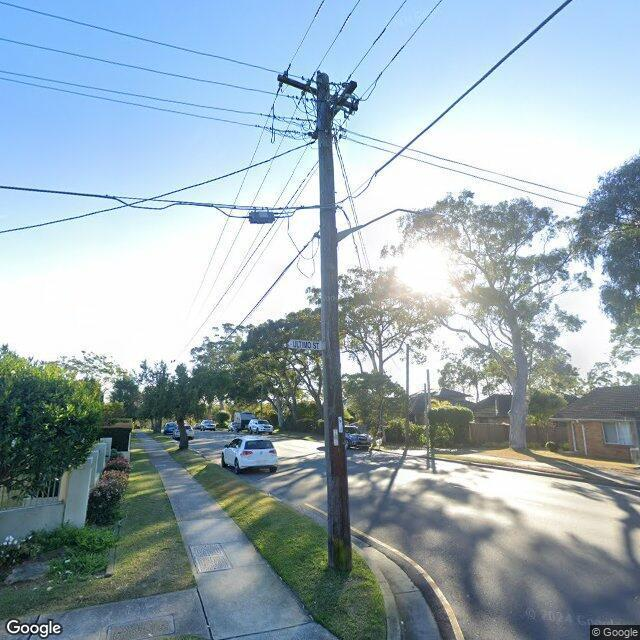crossarm: (277, 74, 358, 111), (312, 80, 358, 138)
streetlight: (337, 208, 444, 242)
timber-pole: (316, 70, 352, 572), (405, 344, 410, 454), (424, 384, 428, 452), (427, 369, 431, 409)
